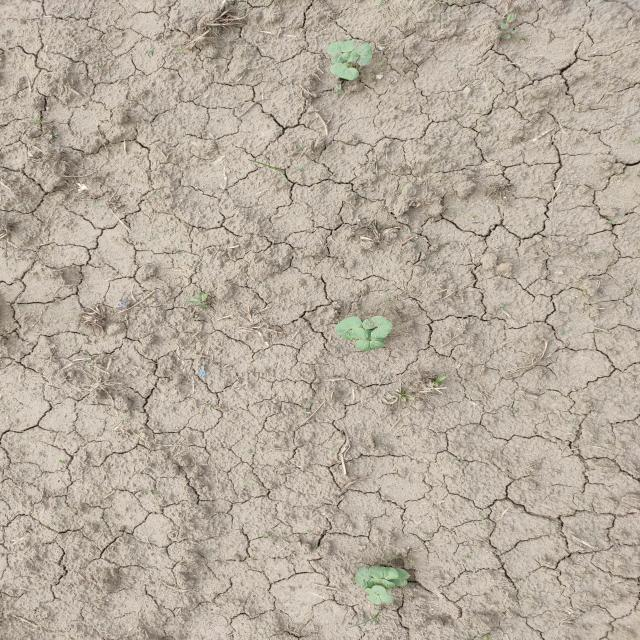seedling: (362, 316, 393, 339), (330, 63, 360, 80), (335, 316, 362, 334), (327, 40, 355, 55), (355, 567, 374, 589), (369, 566, 398, 580), (372, 585, 394, 603), (357, 43, 372, 66), (355, 340, 385, 351), (340, 327, 365, 340), (361, 329, 384, 342), (343, 49, 359, 67), (365, 588, 381, 605), (371, 578, 395, 589), (331, 52, 350, 64), (395, 568, 411, 580), (388, 577, 407, 586)
